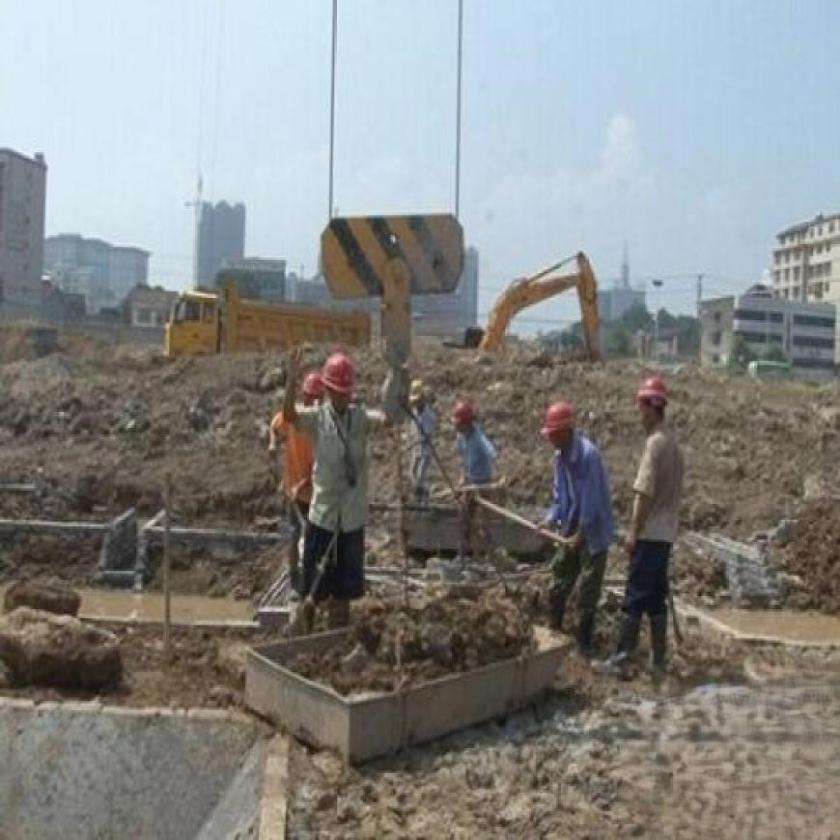Con_casco: (316, 351, 369, 433), (622, 348, 672, 430), (544, 388, 584, 458)
